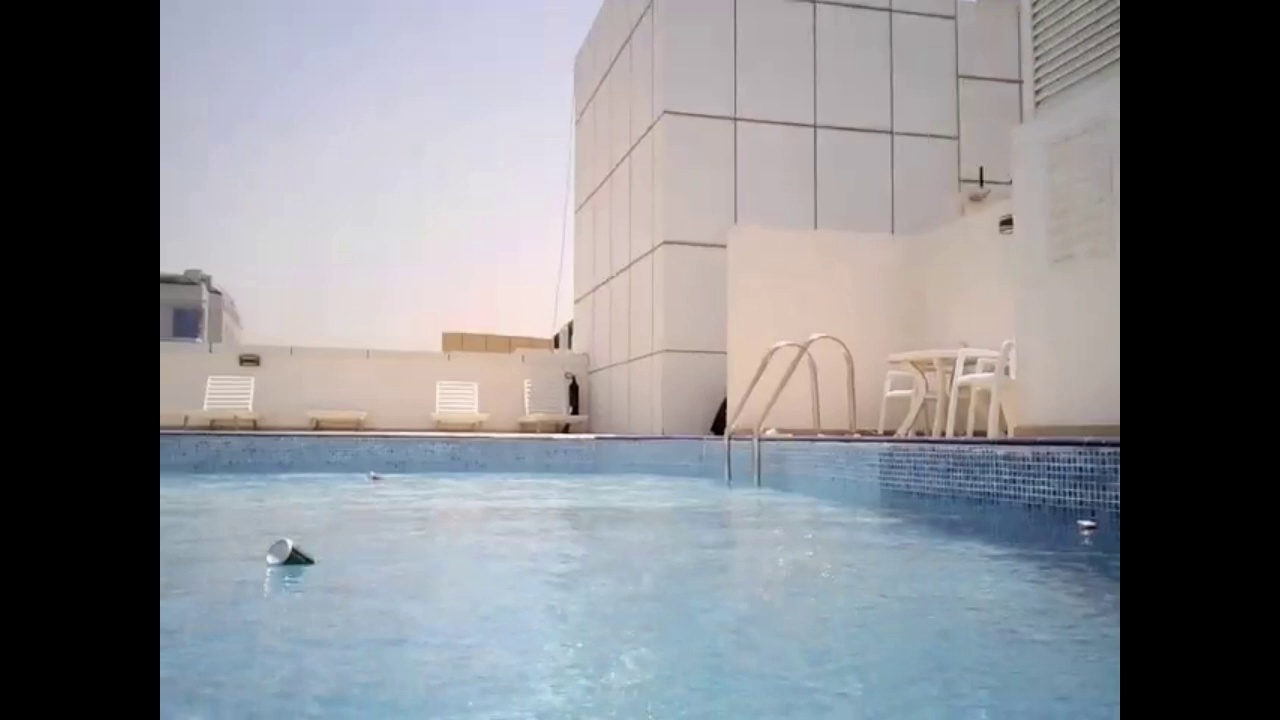debris: (258, 535, 324, 583), (1068, 512, 1100, 549), (362, 466, 388, 484)
